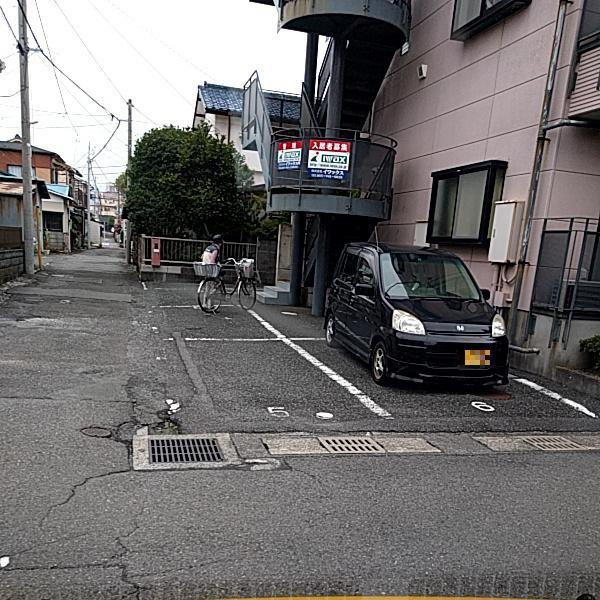D00: (2, 524, 152, 596), (29, 467, 127, 517)
D50: (75, 425, 109, 437)
